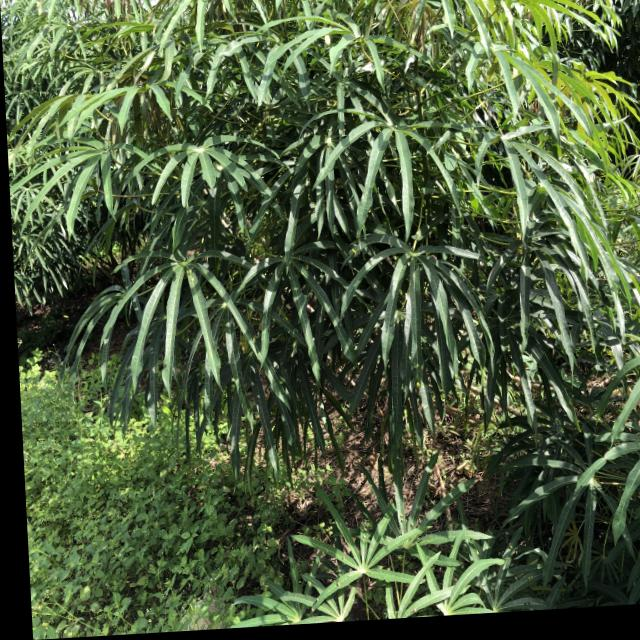Maleza: (24, 407, 227, 627)
Mosca: (522, 566, 541, 581), (358, 521, 372, 541), (469, 545, 488, 557), (400, 351, 410, 372), (335, 580, 347, 597), (556, 169, 566, 187), (415, 375, 425, 391), (311, 592, 322, 606)
